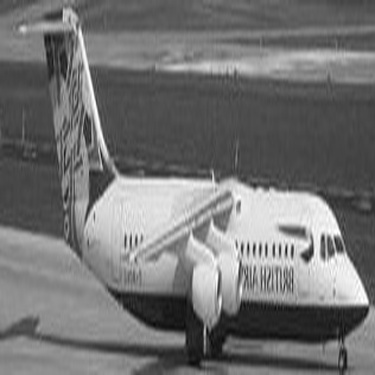airplane: (1, 3, 368, 372)
